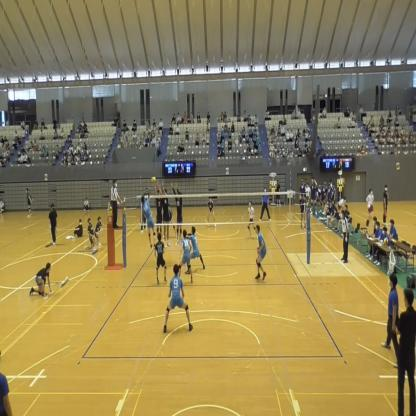spike: (140, 175, 162, 250)
